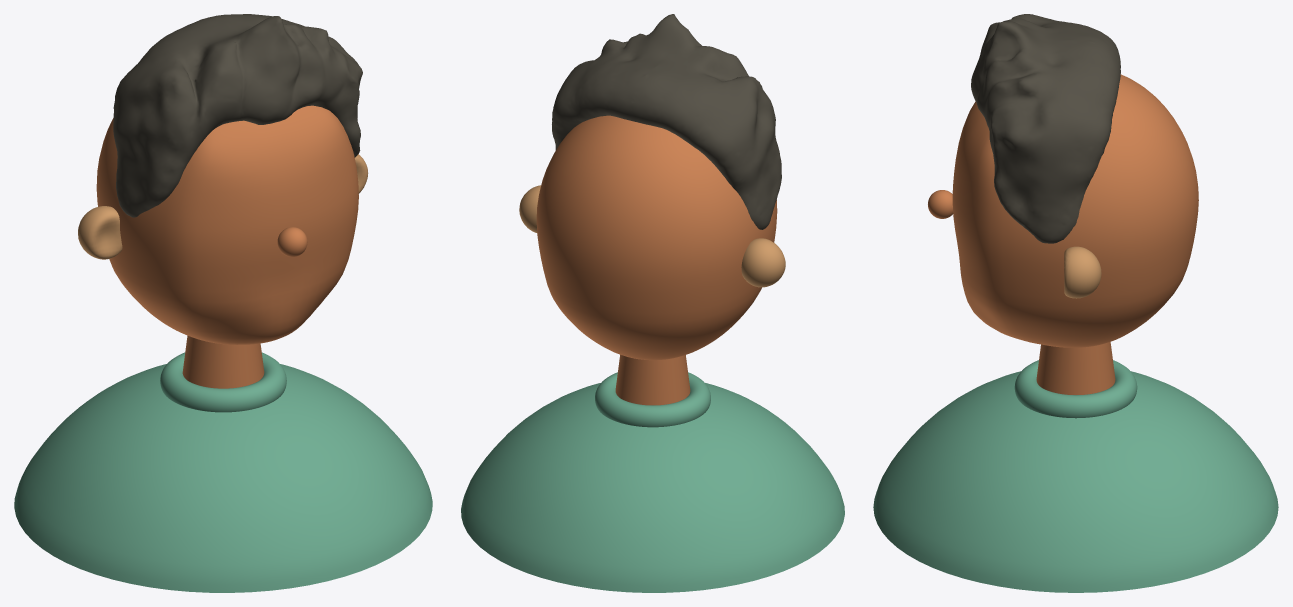
Rendered from avatar1.glb.
The picture shows the model from 3 angles, left to right: view 1: azimuth 30°, elevation 25°; view 2: azimuth 150°, elevation 25°; view 3: azimuth 270°, elevation 25°; orthographic projection. The views are drawn at different scales.
Parts seen in each view (by area): view 1: Body, Head, Hair, Collar, Neck, Ears, Nose new; view 2: Body, Head, Hair, Collar, Neck, Ears; view 3: Body, Head, Hair, Collar, Neck, Ears, Nose new.
Boxes of the visible parts, x1,y1,x2,y2 form: Body: (14,364,432,592); Head: (96,105,358,344); Hair: (113,14,362,217); Collar: (160,352,286,412); Neck: (182,335,264,388); Ears: (78,154,368,259); Nose new: (277,227,307,256); Body: (461,383,844,592); Head: (536,115,777,360); Hair: (552,14,781,229); Collar: (595,372,710,427); Neck: (615,354,690,405); Ears: (519,185,785,287); Body: (873,371,1278,592); Head: (952,74,1198,347); Hair: (971,14,1120,243); Collar: (1014,360,1137,418); Neck: (1036,342,1115,394); Ears: (1064,246,1101,298); Nose new: (928,190,953,218).
Bounding box in the file's own units: 1.68 × 2.25 × 1.68.
